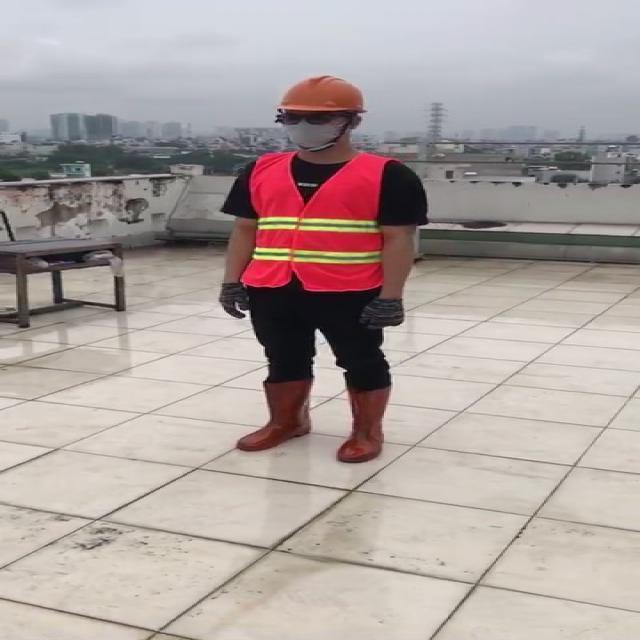gloves: (355, 286, 409, 332), (210, 274, 253, 322)
helmet: (272, 71, 375, 125)
safety_vest: (245, 146, 387, 288)
